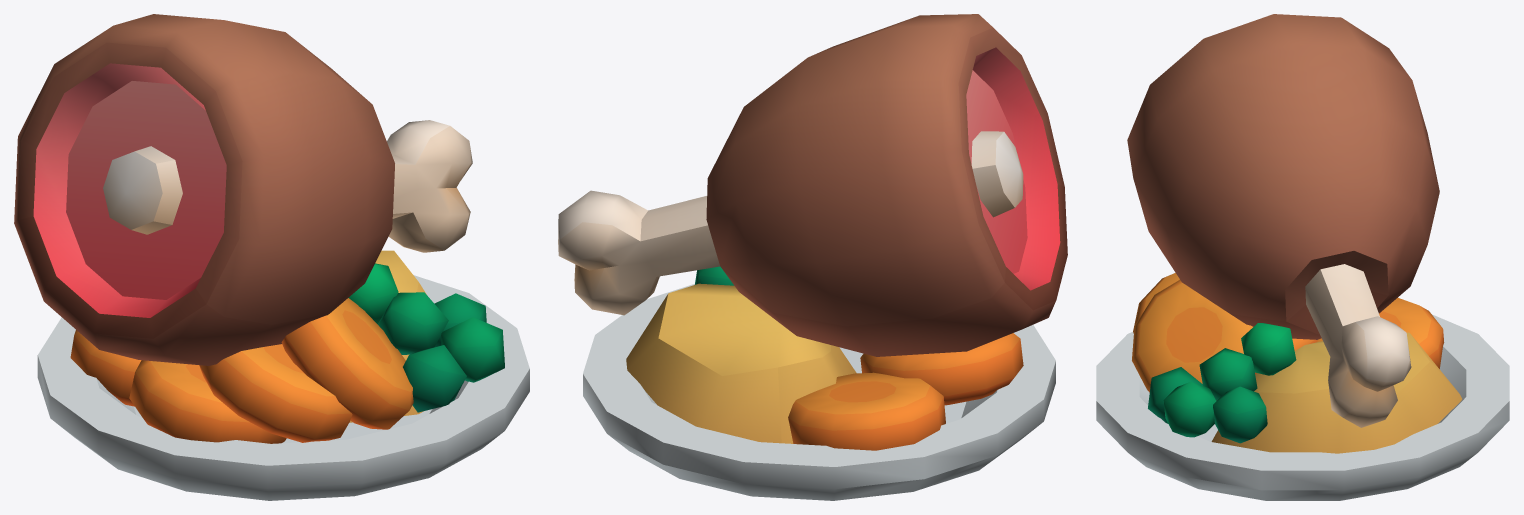
The model's file is dinner.glb.
The picture shows the model from 3 angles, left to right: view 1: azimuth 30°, elevation 25°; view 2: azimuth 150°, elevation 25°; view 3: azimuth 270°, elevation 25°; orthographic projection. The views are drawn at different scales.
Visible parts, largest first — view 1: food_dinner; view 2: food_dinner; view 3: food_dinner.
Part boxes in pixels (x1=…): food_dinner: x1=14, y1=14, x2=529, y2=500; food_dinner: x1=558, y1=14, x2=1067, y2=500; food_dinner: x1=1096, y1=14, x2=1509, y2=500.
Size of the model in its own units: 1.04 by 0.9079 by 0.9501.
Materials: 1 (1 with a texture image).
